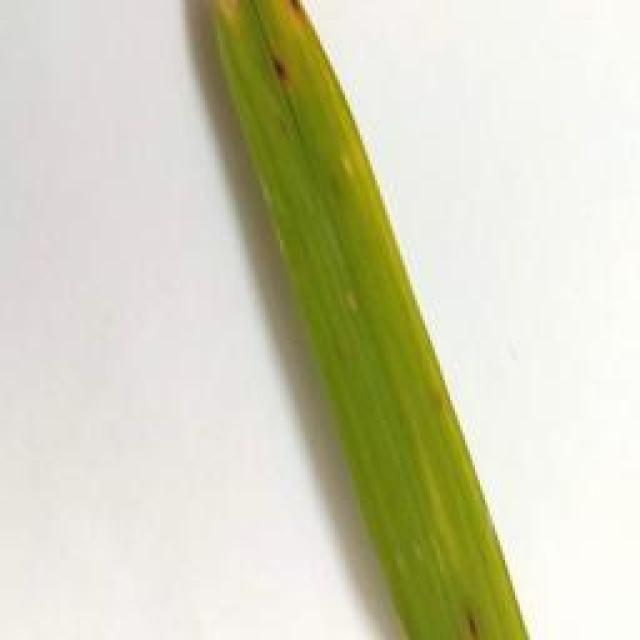Brown_Spot: (264, 46, 296, 93), (461, 598, 488, 640)
